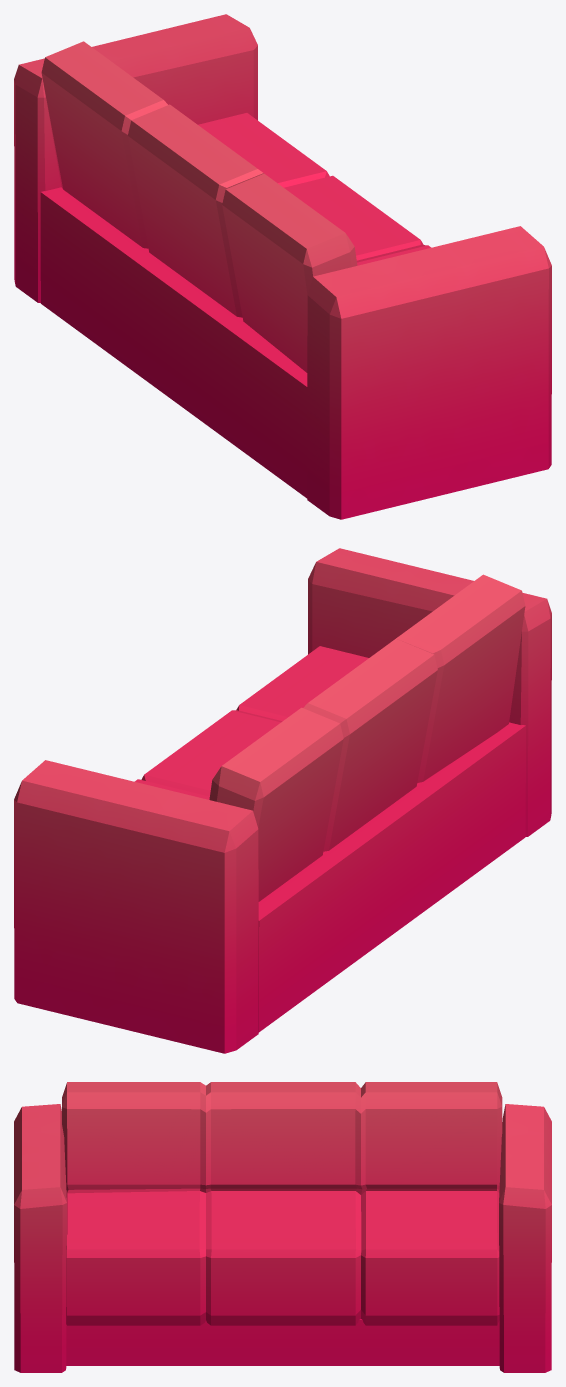
Rendered from Couch_1.fbx.
3 views of the same model, one above another, from view 1: azimuth 30°, elevation 25°; view 2: azimuth 150°, elevation 25°; view 3: azimuth 270°, elevation 25° (orthographic). The views are drawn at different scales.
Parts seen in each view (by area): view 1: Couch_1; view 2: Couch_1; view 3: Couch_1.
Boxes of the visible parts, x1,y1,x2,y2 form: Couch_1: (14, 14, 551, 519); Couch_1: (14, 548, 551, 1053); Couch_1: (14, 1082, 551, 1372).
Size of the model in its own units: 123 by 136 by 316.
